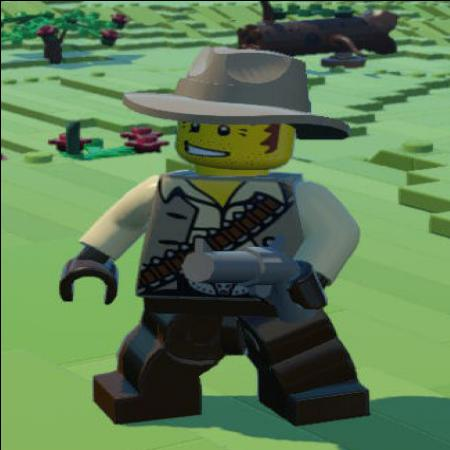Pistol: (184, 231, 324, 317)
